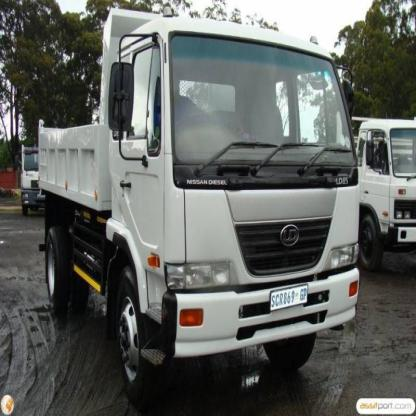dump_truck: (19, 6, 366, 385)
